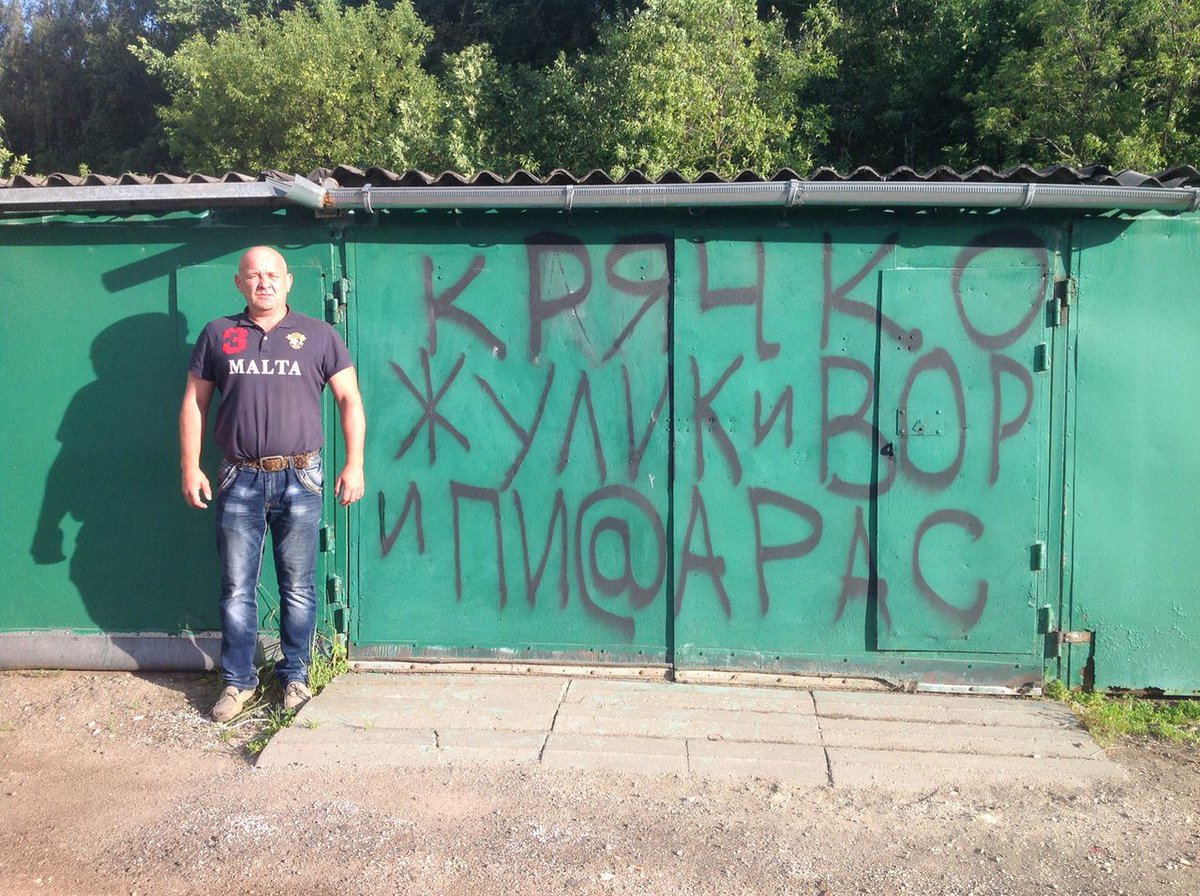graphite: (362, 237, 1050, 647)
